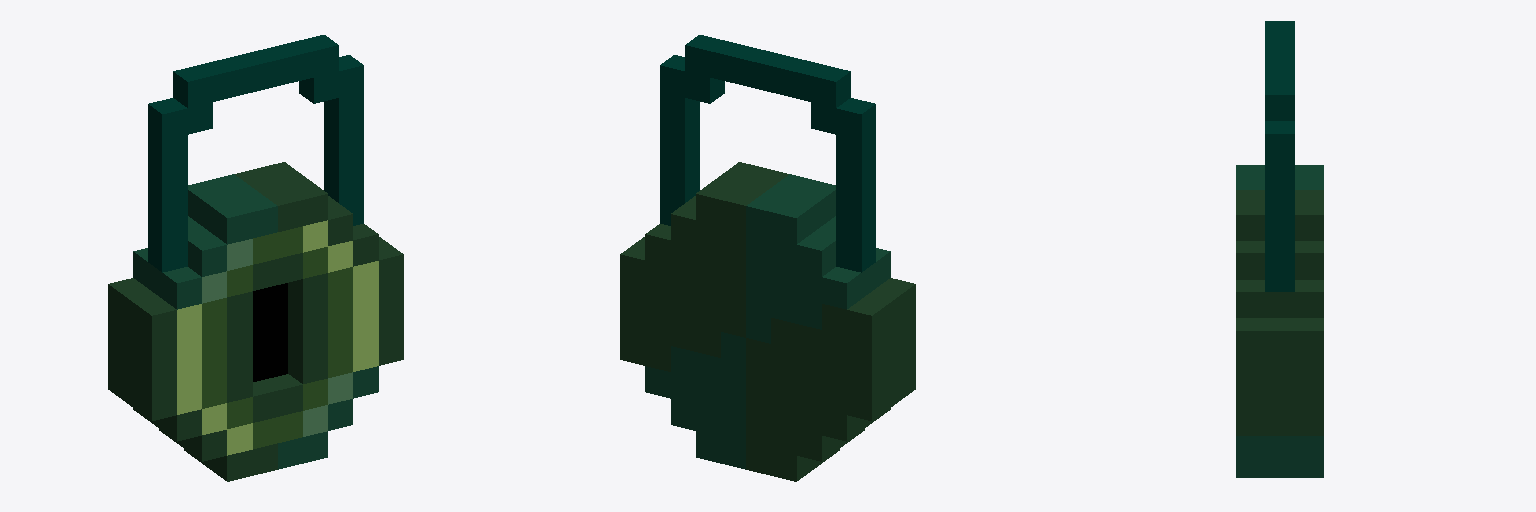
3 renders of one model, left to right at view 1: azimuth 30°, elevation 25°; view 2: azimuth 150°, elevation 25°; view 3: azimuth 270°, elevation 25°, orthographic.
Parts seen in each view (by area): view 1: object 1; view 2: object 1; view 3: object 1.
Part boxes in pixels (x1,y1,x2,y2): object 1: (108, 35, 403, 481); object 1: (620, 35, 915, 481); object 1: (1236, 21, 1323, 477).
Size of the model in its own units: 1 by 1.5 by 0.3.
Materials: 1 (1 with a texture image).